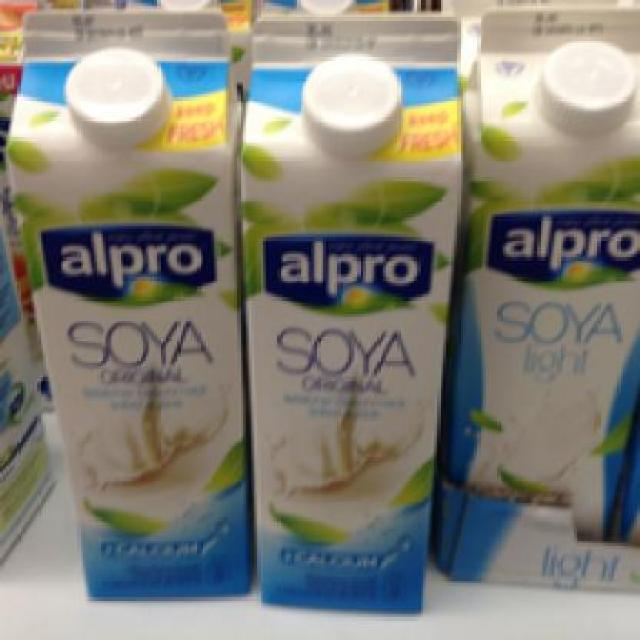Milk: (8, 9, 252, 598), (240, 9, 460, 620), (445, 3, 638, 543)
